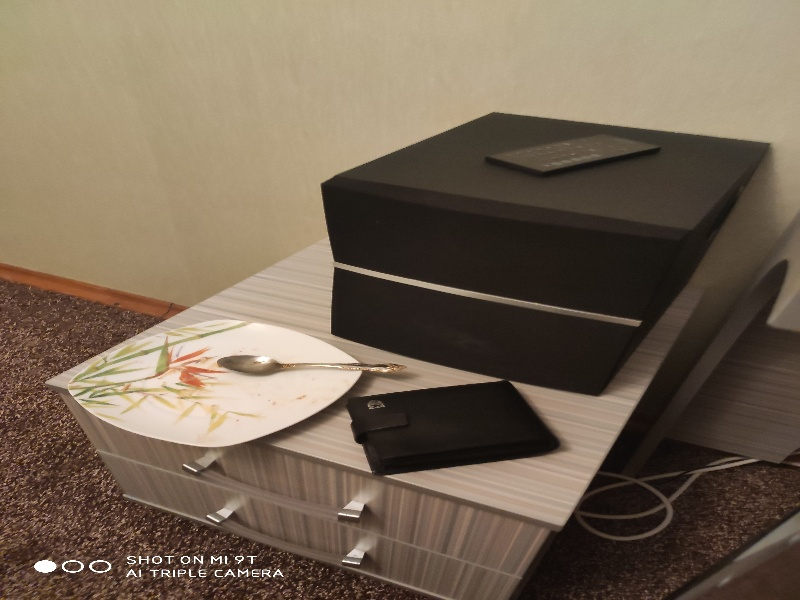wallet: (331, 375, 561, 481)
